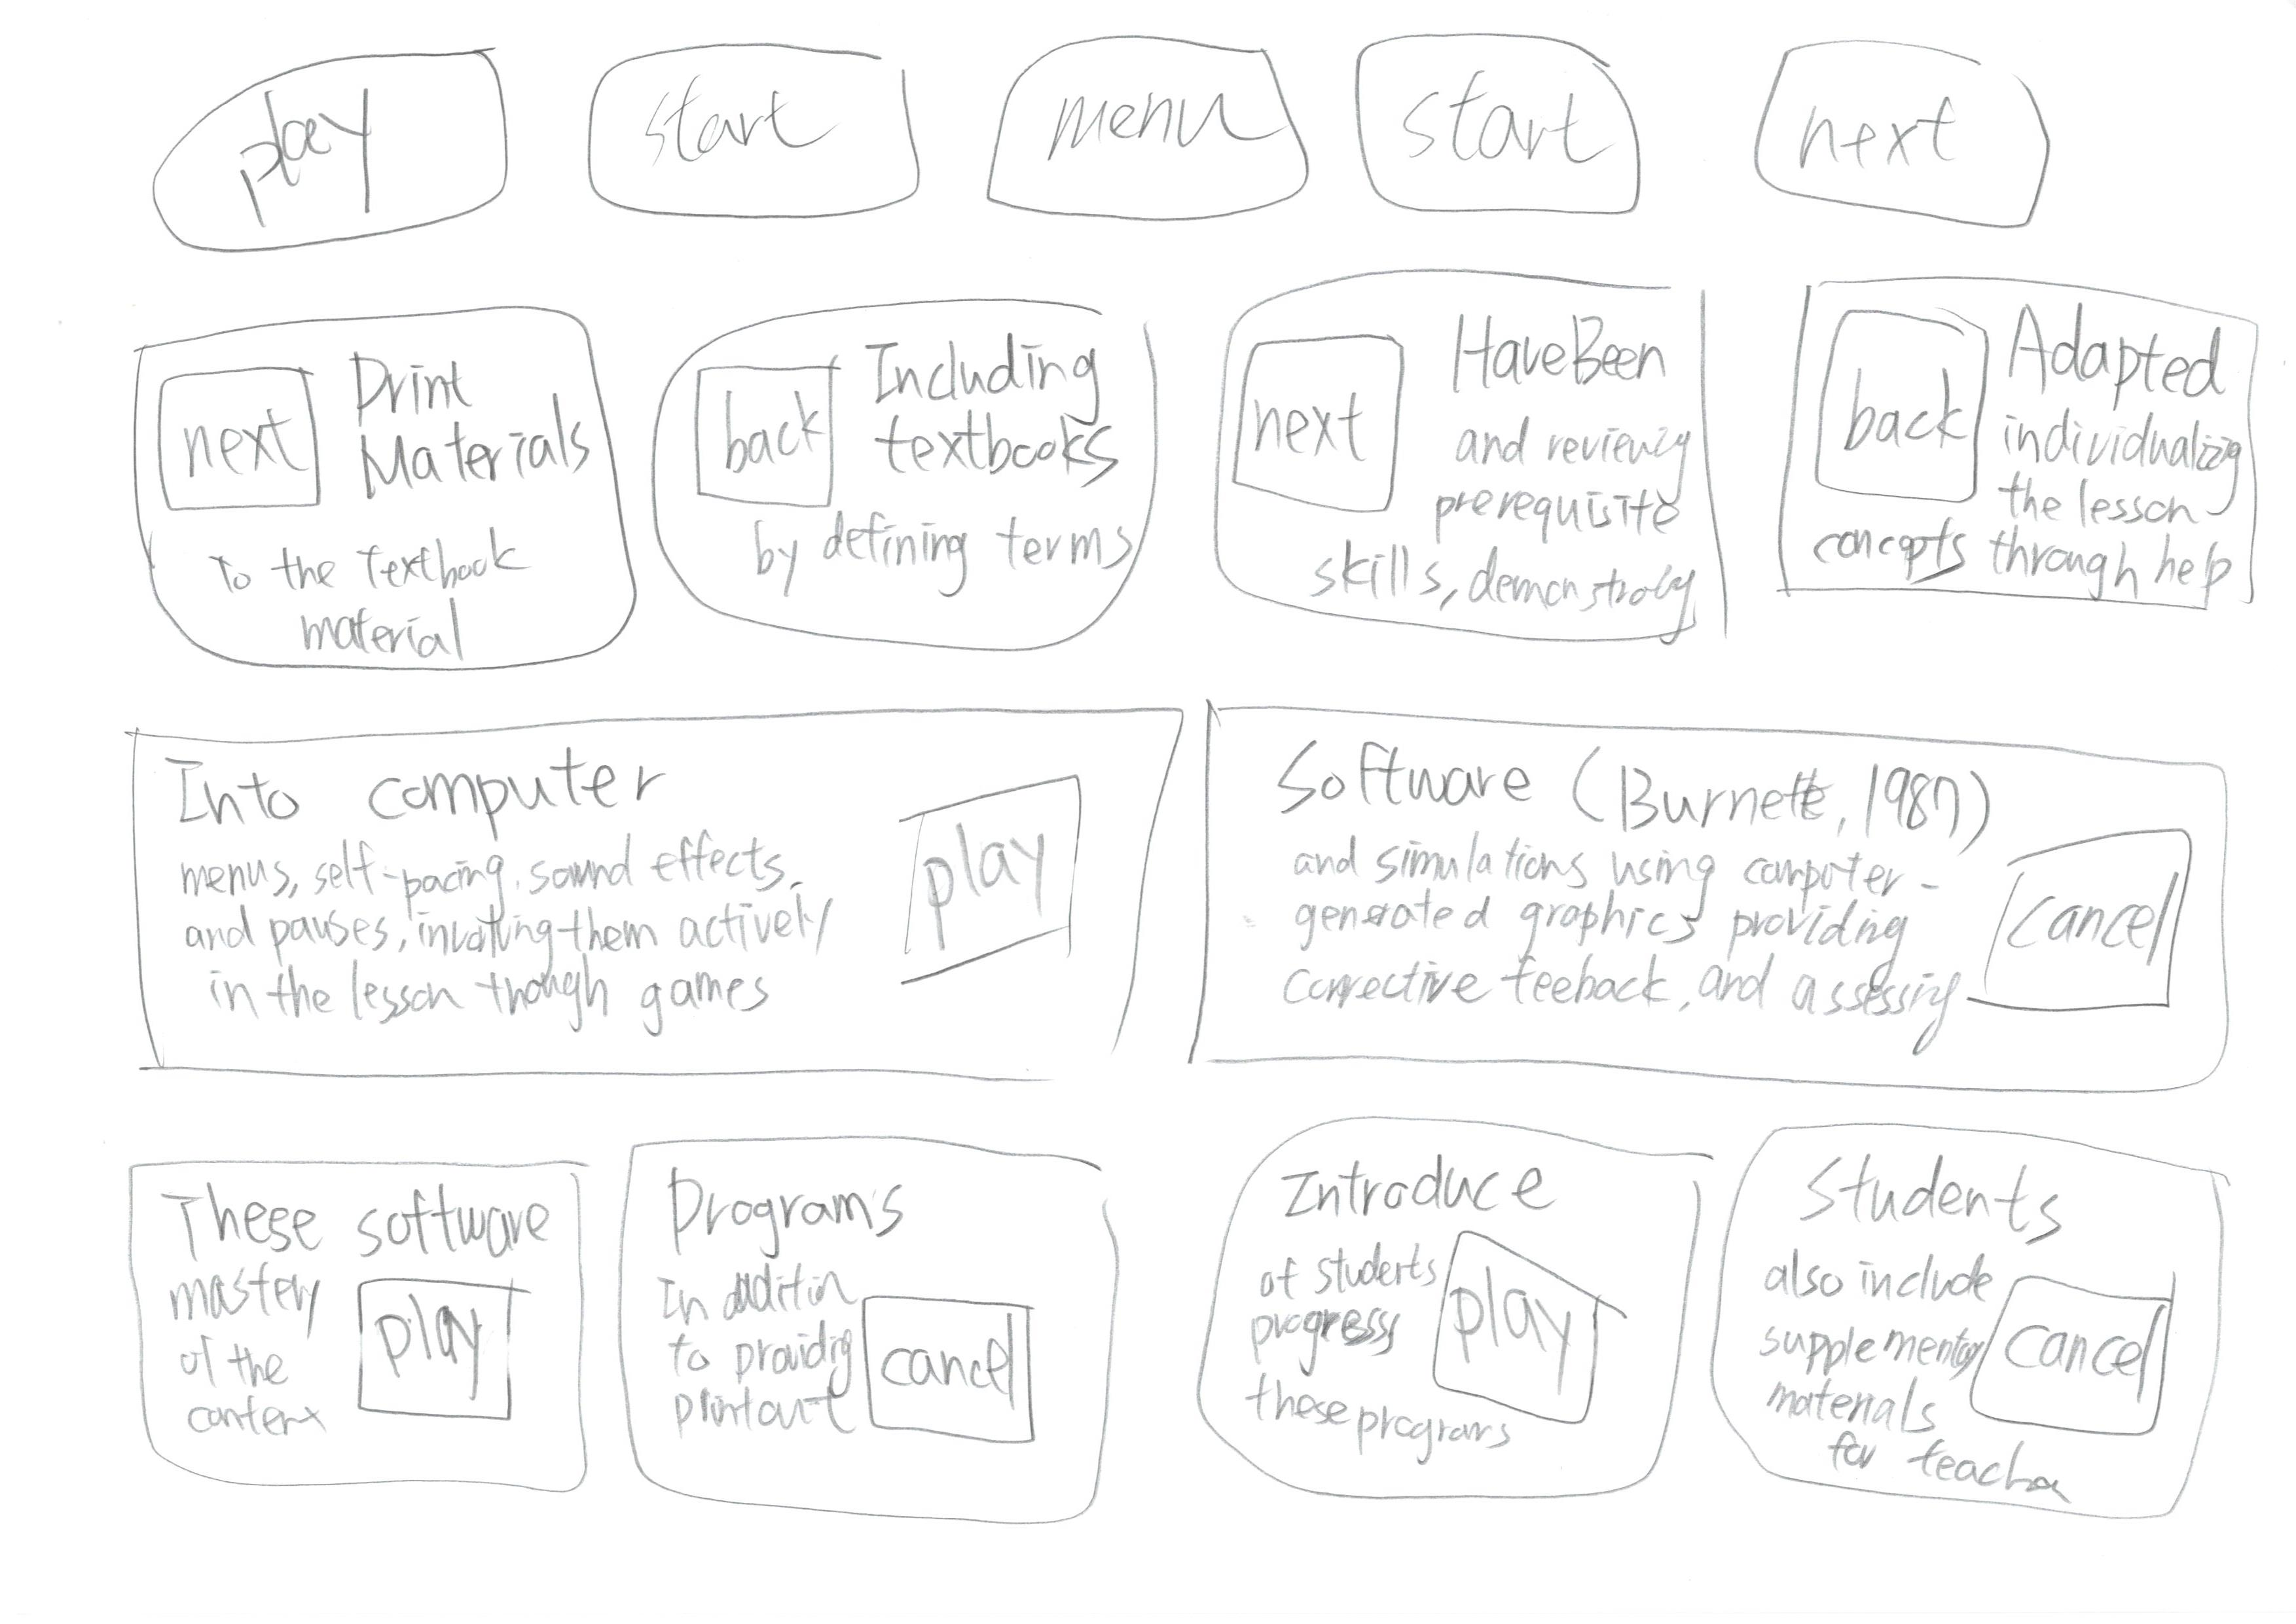back: (1791, 290, 2001, 506), (649, 337, 840, 499)
cancel: (1958, 807, 2212, 1063), (1958, 1243, 2210, 1457), (847, 1257, 1062, 1487)
double: (84, 675, 1202, 1090), (1180, 696, 2296, 1111)
next: (1728, 18, 2094, 253), (1218, 325, 1415, 522), (139, 352, 345, 533)
play: (118, 21, 534, 272), (865, 747, 1136, 1004), (1410, 1218, 1653, 1427), (331, 1258, 549, 1445)
quadruple: (1178, 239, 1749, 684), (1725, 221, 2296, 666), (1157, 1098, 1728, 1543), (589, 1084, 1160, 1527), (1682, 1104, 2254, 1547), (46, 1091, 615, 1534), (97, 258, 642, 708)
row: (69, 694, 2296, 1107), (69, 1104, 2296, 1517), (69, 260, 2296, 671), (69, 0, 2296, 257)
small-title: (1266, 714, 1999, 858), (849, 332, 1134, 487), (118, 1176, 559, 1267), (144, 745, 680, 819), (346, 341, 592, 501), (1806, 1146, 2076, 1267), (652, 1149, 916, 1265), (1990, 295, 2226, 408), (1278, 1146, 1551, 1223), (1433, 329, 1672, 390)
start: (552, 21, 962, 246), (1327, 11, 1695, 244)
text: (1239, 838, 1964, 1074), (192, 826, 828, 1060), (1392, 418, 1695, 636), (1983, 429, 2266, 601), (1765, 1264, 1981, 1475), (733, 499, 1162, 603), (209, 527, 559, 649), (1234, 1237, 1422, 1452), (650, 1267, 846, 1457), (1301, 513, 1653, 610), (1800, 508, 2236, 582), (178, 1264, 336, 1462), (1948, 1448, 2118, 1499), (1341, 1429, 1544, 1471)
